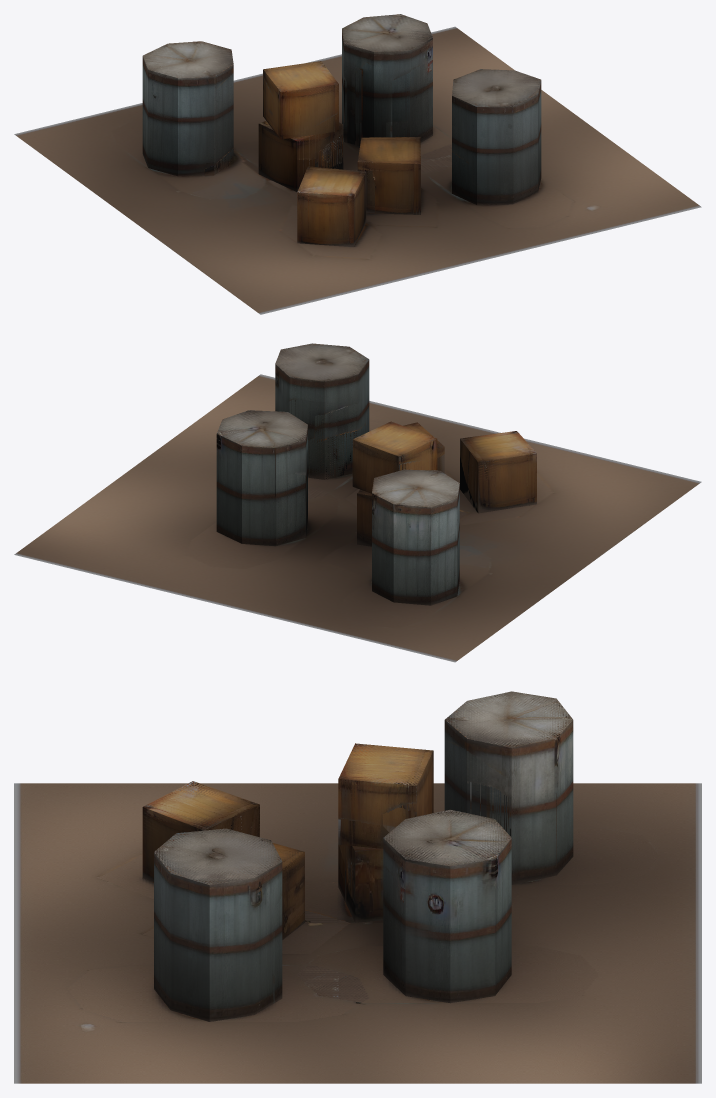
The picture shows the model from 3 angles, top to bottom: view 1: azimuth 30°, elevation 25°; view 2: azimuth 150°, elevation 25°; view 3: azimuth 270°, elevation 25°; orthographic projection. The views are drawn at different scales.
Visible parts, largest first — view 1: textured.obj; view 2: textured.obj; view 3: textured.obj.
Boxes of the visible parts, left/top/right/bottom form: textured.obj: left=14, top=14, right=701, bottom=314; textured.obj: left=14, top=343, right=701, bottom=662; textured.obj: left=14, top=691, right=701, bottom=1083.
Size of the model in its own units: 2 by 0.4252 by 1.94.
Materials: 1 (1 with a texture image).
